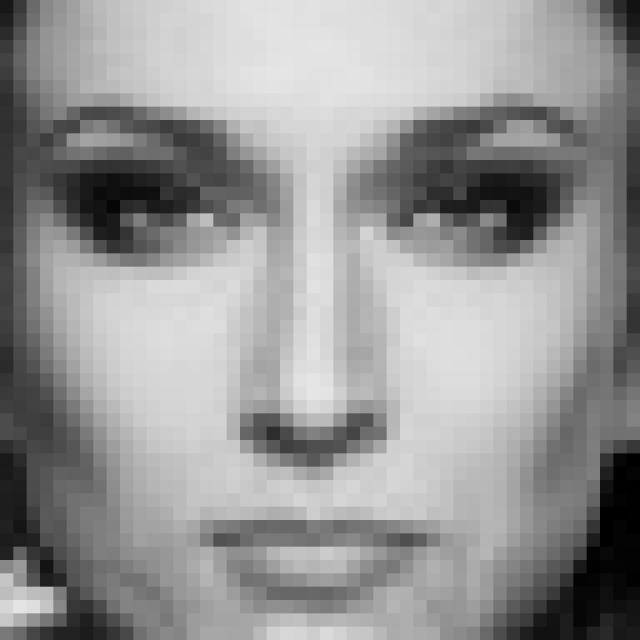neutral: (41, 85, 598, 614)
